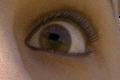eye: (39, 25, 71, 53)
